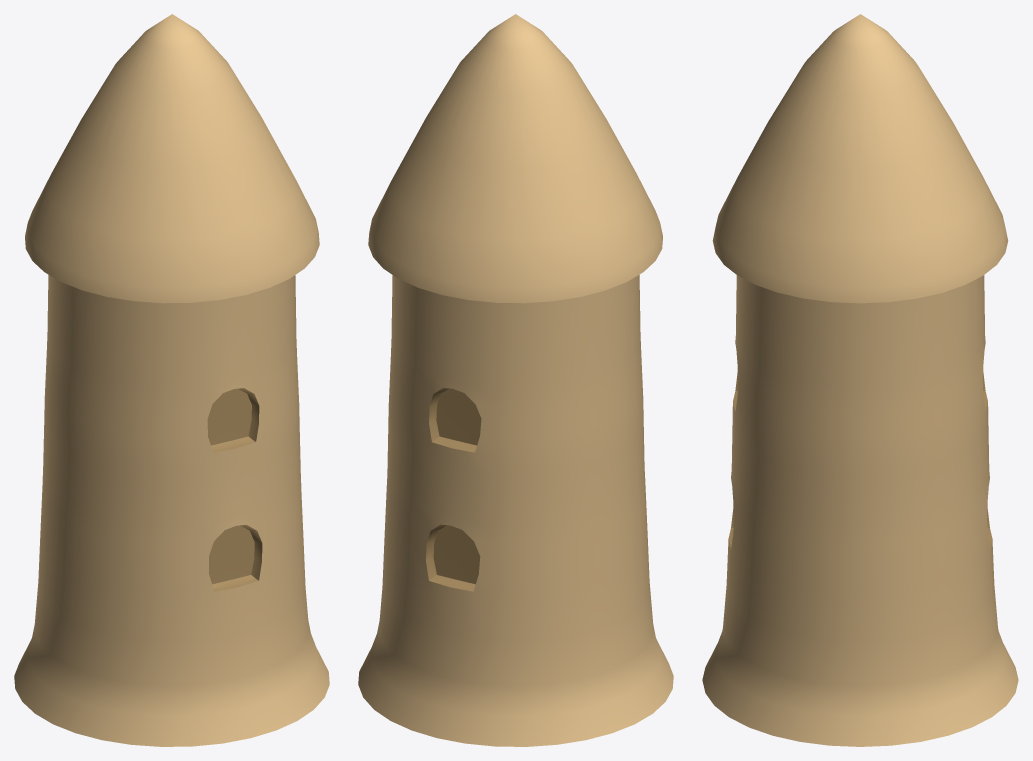
The model's file is TowerTall2.fbx.
3 renders of one model, left to right at view 1: azimuth 30°, elevation 25°; view 2: azimuth 150°, elevation 25°; view 3: azimuth 270°, elevation 25°, orthographic.
Visible parts, largest first — view 1: Cylinder.075; view 2: Cylinder.075; view 3: Cylinder.075.
Boxes of the visible parts, x1,y1,x2,y2 form: Cylinder.075: (14,14,329,746); Cylinder.075: (358,14,673,746); Cylinder.075: (702,14,1018,746).
Size of the model in its own units: 379 by 881 by 379.
